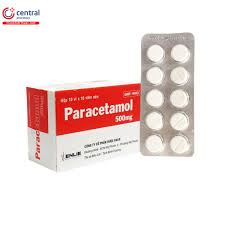Paracetamol: (61, 104, 133, 118), (32, 94, 43, 163)
